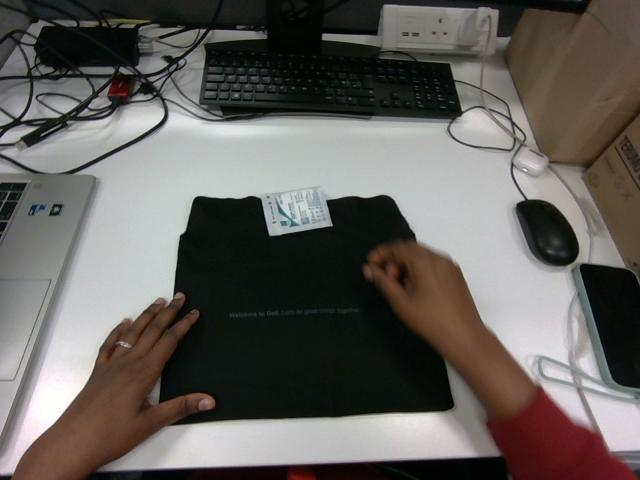gauze: (261, 187, 332, 235)
